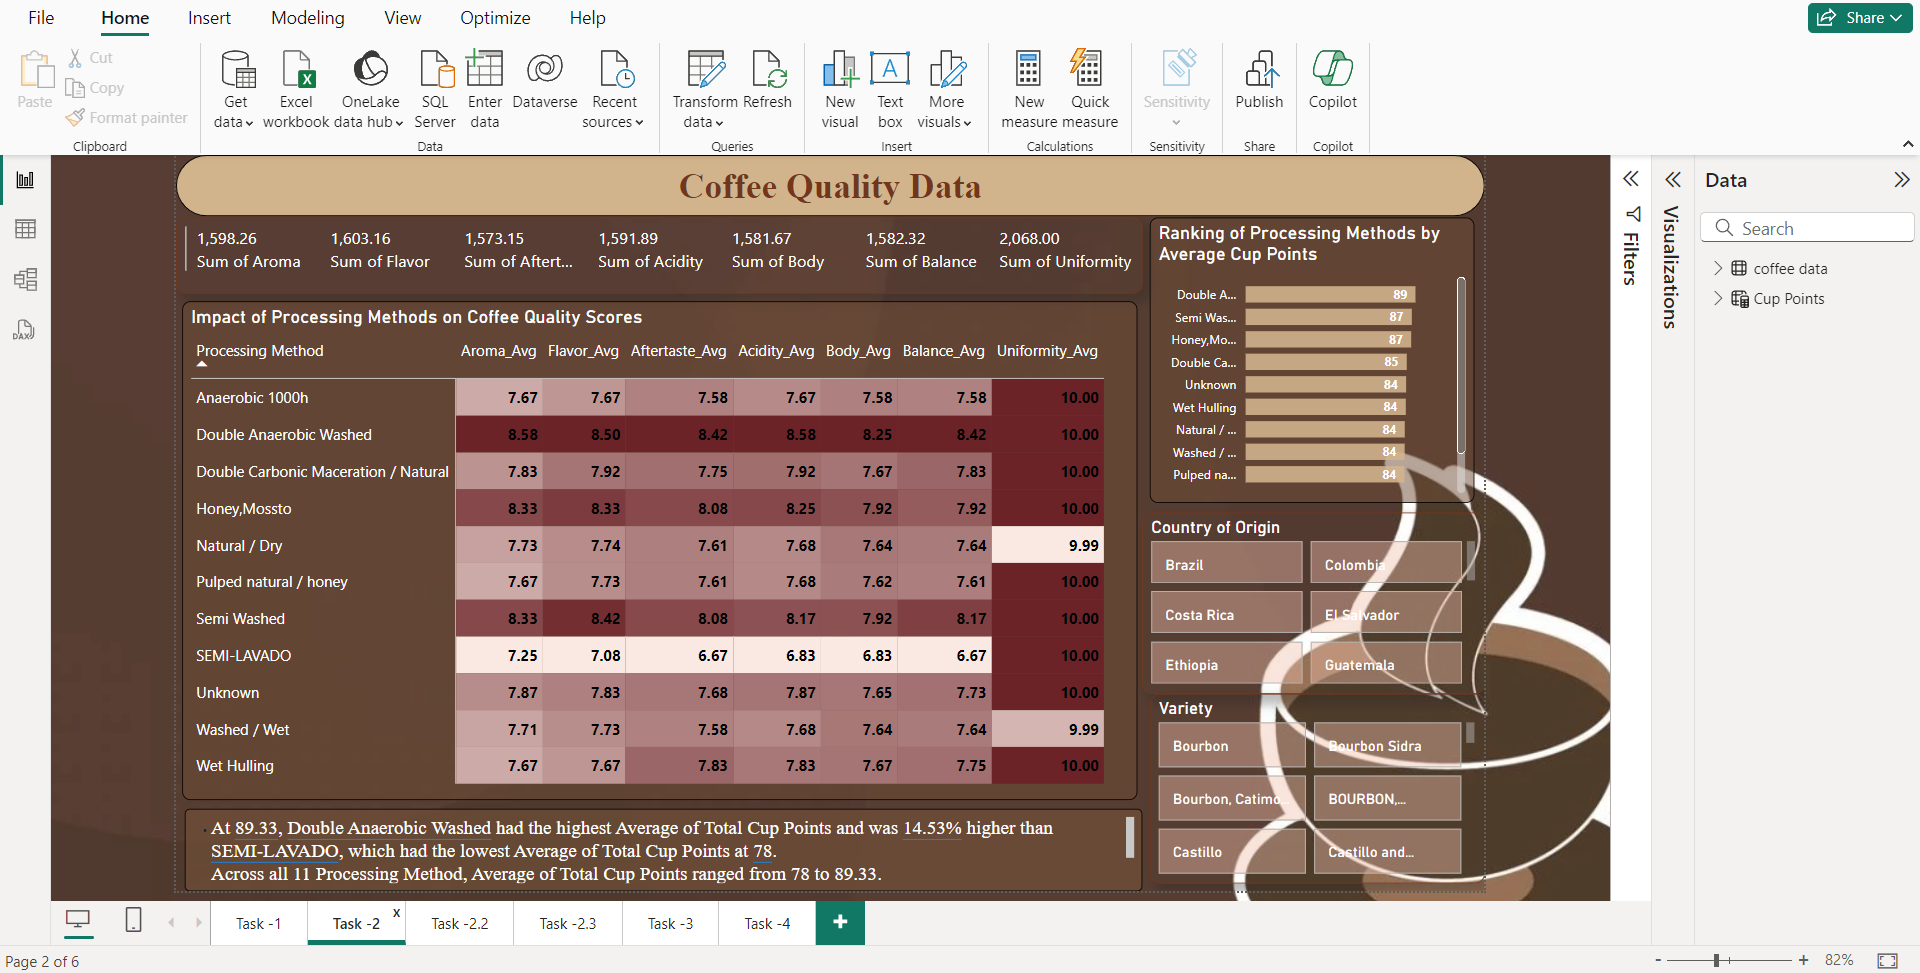

This screenshot's page, from the dashboard's own definition file:
{"tool":"powerbi","page":{"name":"Task -2","canvas":[1280,720],"ordinal":1},"visuals":[{"type":"shape","box":[0,0,1280.3,59.9],"z":0},{"type":"multiRowCard","fields":{"Values":["Sum(Cup Points.Aroma)","Sum(Cup Points.Flavor)","Sum(Cup Points.Aftertaste)","Sum(Cup Points.Acidity)","Sum(Cup Points.Body)","Sum(Cup Points.Balance)","Sum(coffee data.Uniformity)"]},"box":[0,61.1,945.2,74.6],"z":1000},{"type":"pivotTable","title":"Impact of Processing Methods on Coffee Quality Scores","fields":{"Rows":["coffee data.Processing Method"],"Values":["Cup Points.Aroma_Avg","Cup Points.Flavor_Avg","Cup Points.Aftertaste_Avg","Cup Points.Acidity_Avg","Cup Points.Body_Avg","Cup Points.Balance_Avg","Cup Points.Uniformity_Avg"]},"box":[6.1,143.1,934.2,487.9],"z":2000},{"type":"advancedSlicerVisual","fields":{"Values":["coffee data.Country of Origin"]},"box":[945.2,349.7,335.1,177.3],"z":3000},{"type":"advancedSlicerVisual","fields":{"Values":["coffee data.Variety"]},"box":[952.6,527,327.7,185.9],"z":4000},{"type":"clusteredBarChart","title":"Ranking of Processing Methods by Average Cup Points","fields":{"Category":["coffee data.Processing Method"],"Y":["Avg(coffee data.Total Cup Points)"]},"box":[952.6,61.1,317.9,278.8],"z":5000},{"type":"textbox","box":[8.6,639.5,936.7,80.7],"z":6000}]}

Visuals, with their boxes on the page's 1280x720 design canvas (x1, y1, x2, y2). These are canvas units, not pixel positions in the 1920x973 screenshot, which may show the page scaled, cropped or inside an application window:
shape: 0:0:1280:60
multiRowCard - Sum(Cup Points.Aroma) x Sum(Cup Points.Flavor): 0:61:945:136
"Impact of Processing Methods on Coffee Quality Scores" pivotTable: 6:143:940:631
advancedSlicerVisual - coffee data.Country of Origin: 945:350:1280:527
advancedSlicerVisual - coffee data.Variety: 953:527:1280:713
"Ranking of Processing Methods by Average Cup Points" clusteredBarChart: 953:61:1270:340
textbox: 9:640:945:720
